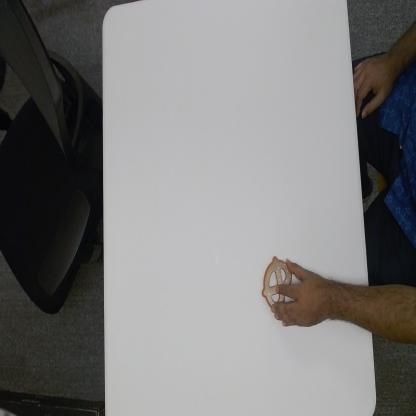Hand: (274, 259, 331, 329)
Pretzel: (261, 254, 292, 309)
